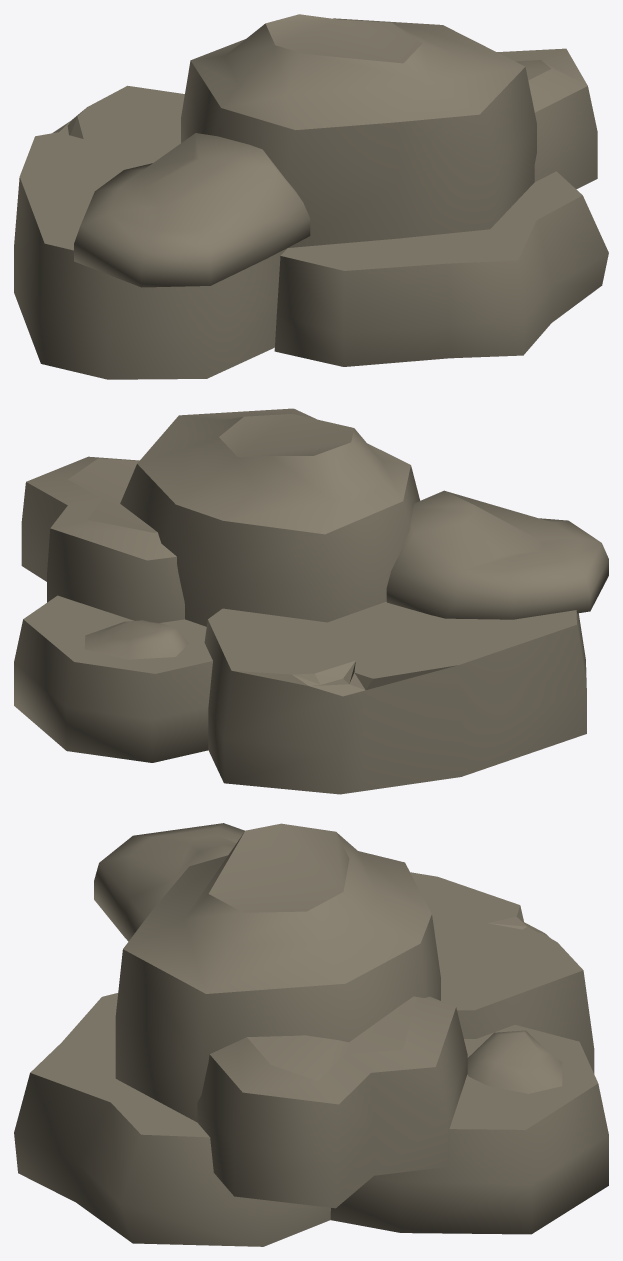
The model's file is TempleRock_A.fbx.
The picture shows the model from 3 angles, top to bottom: view 1: azimuth 30°, elevation 25°; view 2: azimuth 150°, elevation 25°; view 3: azimuth 270°, elevation 25°; orthographic projection. The views are drawn at different scales.
Visible parts, largest first — view 1: TempleRock_A; view 2: TempleRock_A; view 3: TempleRock_A.
Boxes of the visible parts, left/top/right/bottom form: TempleRock_A: left=14, top=14, right=608, bottom=379; TempleRock_A: left=14, top=408, right=608, bottom=794; TempleRock_A: left=14, top=823, right=608, bottom=1246.
Bounding box in the file's own units: 2486 × 1070 × 2058.
